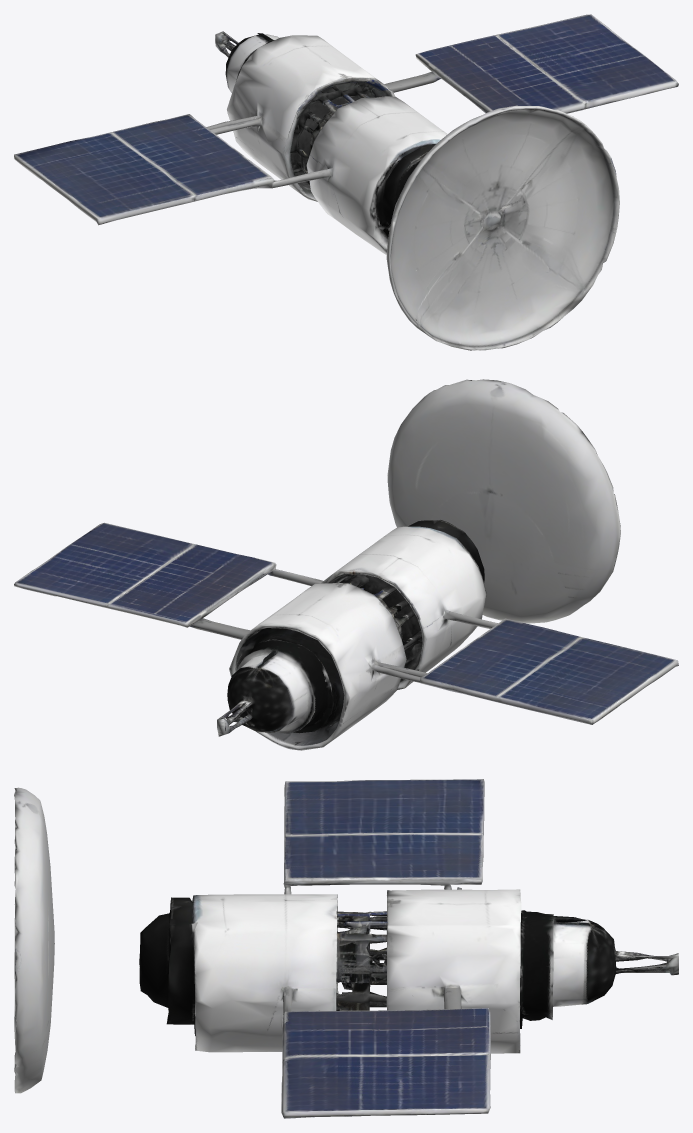
The model's file is Orbital.glb.
The picture shows the model from 3 angles, top to bottom: view 1: azimuth 30°, elevation 25°; view 2: azimuth 150°, elevation 25°; view 3: azimuth 270°, elevation 25°; orthographic projection. The views are drawn at different scales.
Size of the model in its own units: 2 by 0.784 by 1.71.
Materials: 1 (1 with a texture image).
